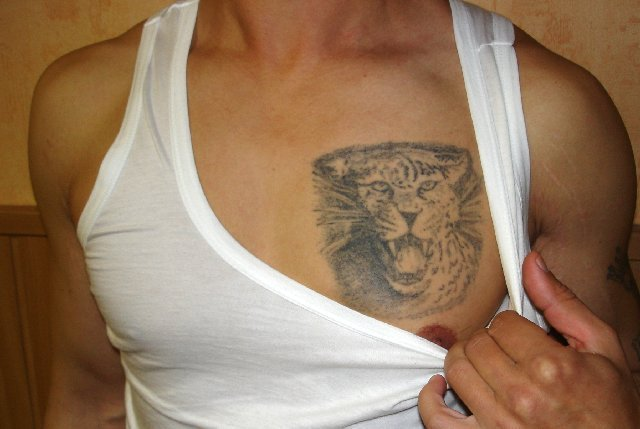tatu5_tigr: (310, 141, 485, 315)
